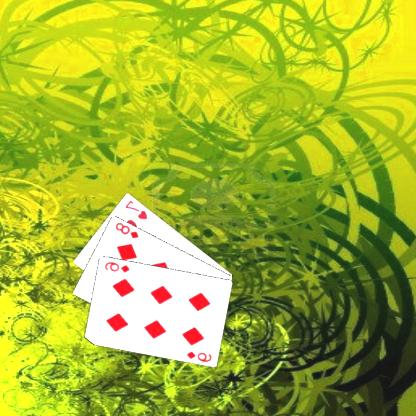6D: (186, 348, 214, 364), (104, 259, 132, 273)
7H: (124, 197, 151, 221)
8D: (115, 219, 142, 240)
